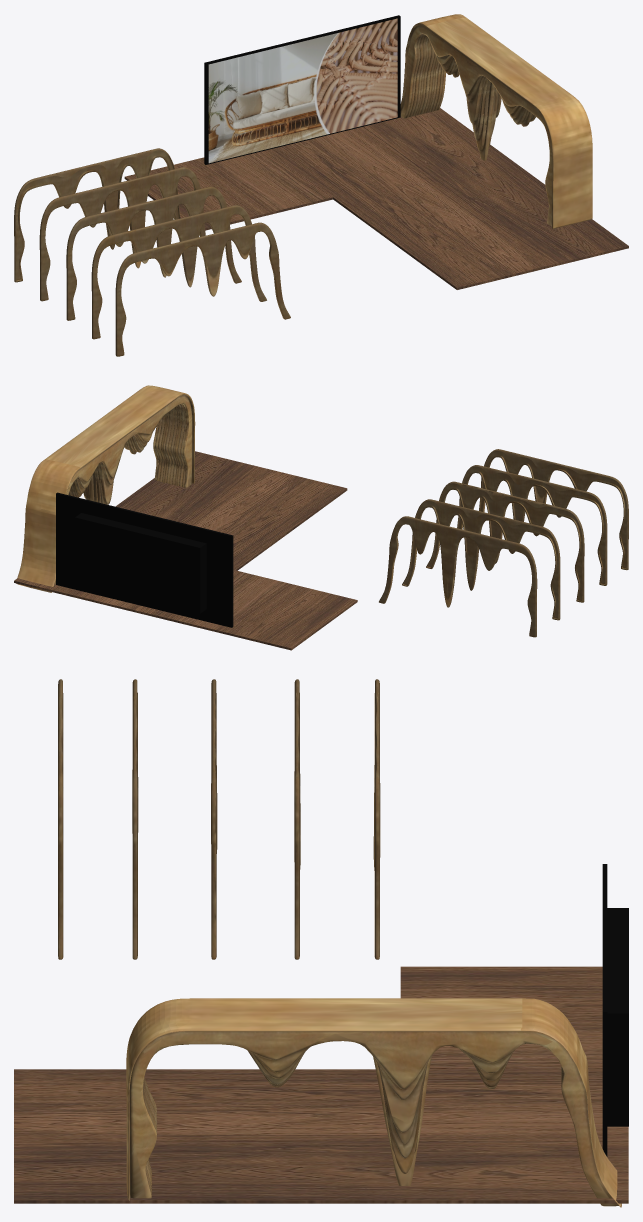
Rendered from thucong_L2.glb.
3 views of the same model, one above another, from view 1: azimuth 30°, elevation 25°; view 2: azimuth 150°, elevation 25°; view 3: azimuth 270°, elevation 25° (orthographic). The views are drawn at different scales.
Visible parts, largest first — view 1: _l2_floor, _l2_panel, _l2_decor, _l2_wood decor; view 2: _l2_floor, _l2_panel, _l2_decor, _l2_wood decor; view 3: _l2_floor, _l2_wood decor, _l2_decor, _l2_panel.
Part boxes in pixels (x1,y1,x2,y2): _l2_floor: [124, 108, 628, 289]; _l2_panel: [204, 15, 400, 164]; _l2_decor: [14, 148, 290, 356]; _l2_wood decor: [400, 14, 592, 228]; _l2_floor: [14, 451, 357, 650]; _l2_panel: [56, 492, 233, 627]; _l2_decor: [379, 449, 628, 637]; _l2_wood decor: [16, 385, 195, 592]; _l2_floor: [14, 966, 628, 1203]; _l2_wood decor: [126, 998, 621, 1207]; _l2_decor: [58, 679, 380, 959]; _l2_panel: [602, 864, 628, 1156].
Bounding box in the file's own units: 14.65 × 3.25 × 10.03.
Materials: 5 (4 with a texture image).
